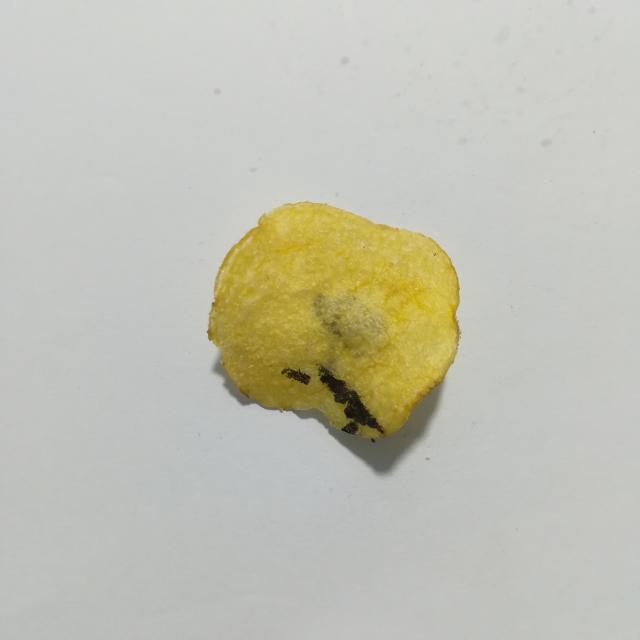chip: (208, 202, 459, 438)
damaged: (318, 365, 384, 434), (282, 368, 310, 385), (371, 438, 375, 443)
semi-damaged: (314, 293, 386, 348)
